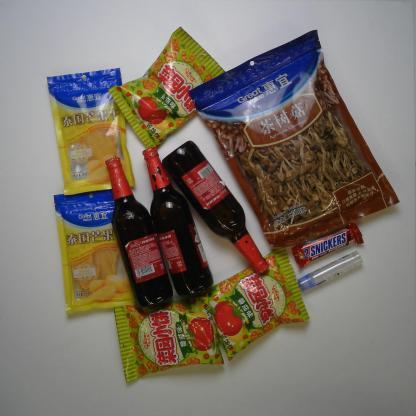Alcohol: (162, 138, 271, 275), (141, 146, 215, 298), (104, 155, 175, 308)
Chocolate: (291, 220, 364, 270)
Dried Food: (187, 26, 402, 250)
Dried Fruit: (46, 65, 137, 197), (51, 188, 138, 316)
Puffed Food: (107, 26, 227, 150), (206, 245, 310, 363), (112, 290, 226, 384)
Stationery: (297, 250, 363, 293)
